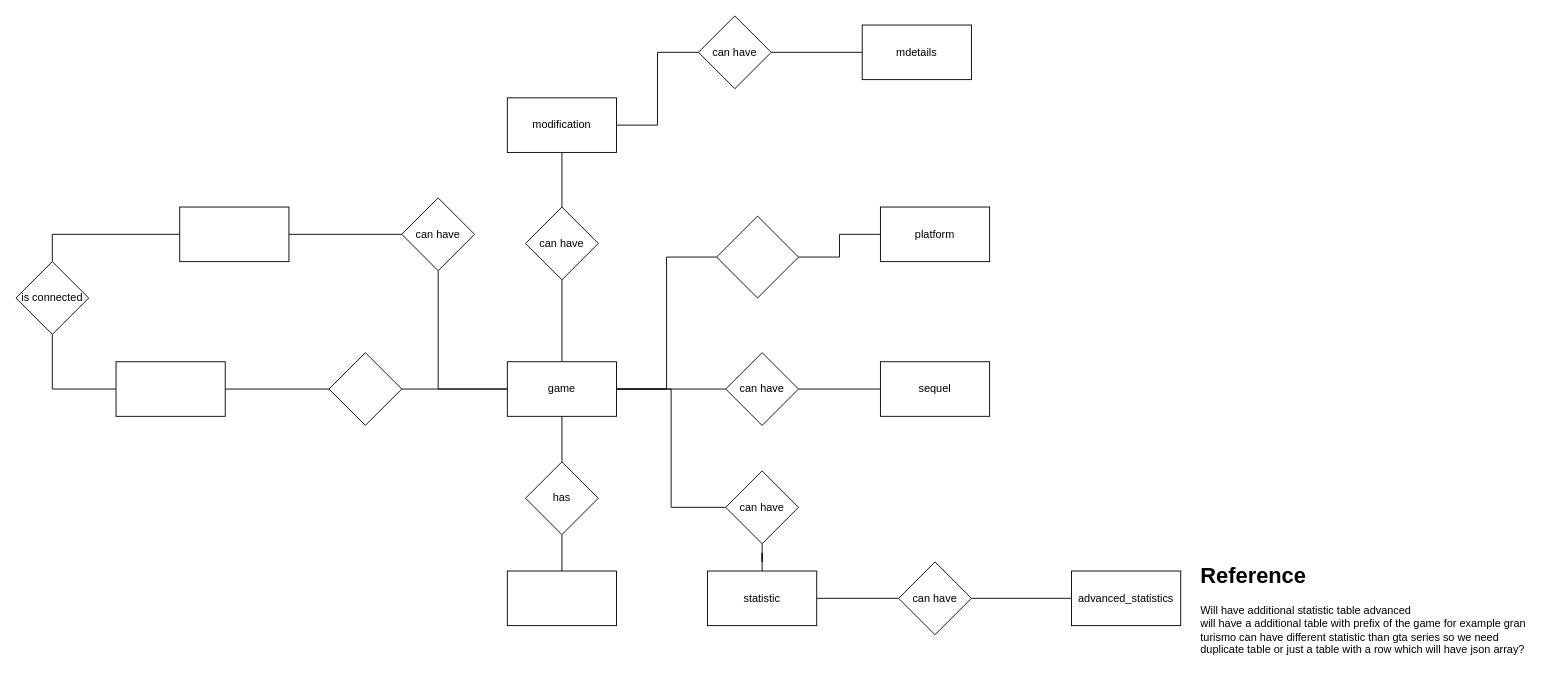
Some shapes in this 1552 by 690 pixel diagram are drawn without their labels. Each missing label, with the centre of its shape:
"can be played" goes at (x=757, y=256).
"genre" goes at (x=561, y=598).
"plays" goes at (x=365, y=388).
"profile" goes at (x=234, y=234).
"user" goes at (x=170, y=388).
